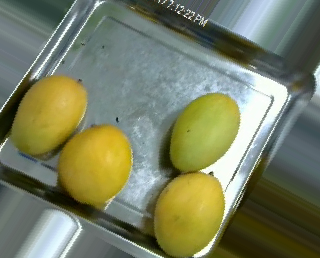Mango: (139, 164, 227, 255), (10, 73, 94, 162), (56, 116, 134, 208), (164, 90, 241, 174)
